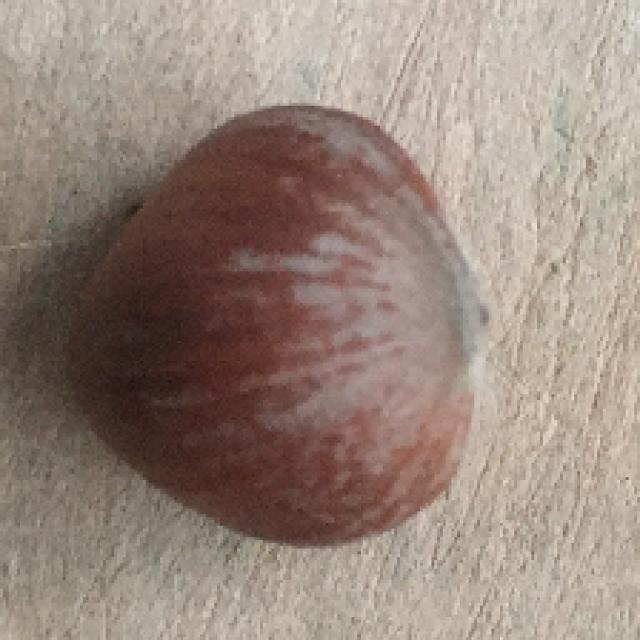qualityHazelnut: (66, 97, 482, 563)
